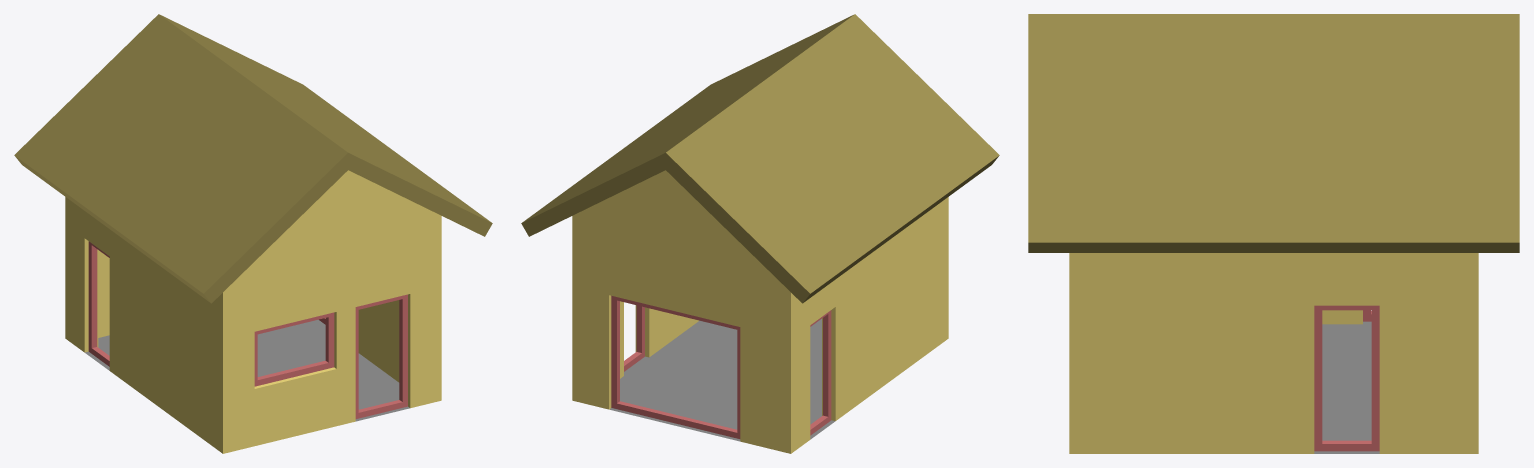
File: result.glb
3 renders of one model, left to right at view 1: azimuth 30°, elevation 25°; view 2: azimuth 150°, elevation 25°; view 3: azimuth 270°, elevation 25°, orthographic. The views are drawn at different scales.
Parts seen in each view (by area): view 1: 080fb057-2e7a-41bb-b947-d1c082acfc0f__undefined, c3c0697e-bf24-470a-a513-4d2df24ff36f__undefined (×2), 29d209ff-08af-4891-8587-5644935dba13__Plane_6, 805b4159-7003-4b4b-8555-7617fe3825cd__Box, f55fc07e-005d-4e69-97e8-1ed5cfe2933c__Box_3, c8111d43-daa8-462b-84d0-3d7a284fce5f__Box_12; view 2: c3c0697e-bf24-470a-a513-4d2df24ff36f__undefined (×2), 080fb057-2e7a-41bb-b947-d1c082acfc0f__undefined, 29d209ff-08af-4891-8587-5644935dba13__Plane_6, 8ab55ba8-b864-4305-a90e-b020748bb097__Box_9, c8111d43-daa8-462b-84d0-3d7a284fce5f__Box_12, e22dd0c3-107f-4453-8b15-c3f01c15bf27__Box_15; view 3: c3c0697e-bf24-470a-a513-4d2df24ff36f__undefined, 080fb057-2e7a-41bb-b947-d1c082acfc0f__undefined, 29d209ff-08af-4891-8587-5644935dba13__Plane_6, e22dd0c3-107f-4453-8b15-c3f01c15bf27__Box_15.
Boxes of the visible parts, x1,y1,x2,y2 form: 080fb057-2e7a-41bb-b947-d1c082acfc0f__undefined: (65,170,441,453); c3c0697e-bf24-470a-a513-4d2df24ff36f__undefined (×2): (14,14,492,303); 29d209ff-08af-4891-8587-5644935dba13__Plane_6: (85,319,409,421); 805b4159-7003-4b4b-8555-7617fe3825cd__Box: (355,294,407,418); f55fc07e-005d-4e69-97e8-1ed5cfe2933c__Box_3: (254,312,334,386); c8111d43-daa8-462b-84d0-3d7a284fce5f__Box_12: (88,241,109,366); c3c0697e-bf24-470a-a513-4d2df24ff36f__undefined (×2): (521,14,999,303); 080fb057-2e7a-41bb-b947-d1c082acfc0f__undefined: (572,170,948,453); 29d209ff-08af-4891-8587-5644935dba13__Plane_6: (609,319,834,441); 8ab55ba8-b864-4305-a90e-b020748bb097__Box_9: (611,295,740,438); c8111d43-daa8-462b-84d0-3d7a284fce5f__Box_12: (810,310,831,435); e22dd0c3-107f-4453-8b15-c3f01c15bf27__Box_15: (624,305,644,371); c3c0697e-bf24-470a-a513-4d2df24ff36f__undefined: (1028,14,1519,252); 080fb057-2e7a-41bb-b947-d1c082acfc0f__undefined: (1069,253,1478,453); 29d209ff-08af-4891-8587-5644935dba13__Plane_6: (1314,321,1379,453); e22dd0c3-107f-4453-8b15-c3f01c15bf27__Box_15: (1314,305,1379,451).
Size of the model in its own units: 529 by 500 by 600.
